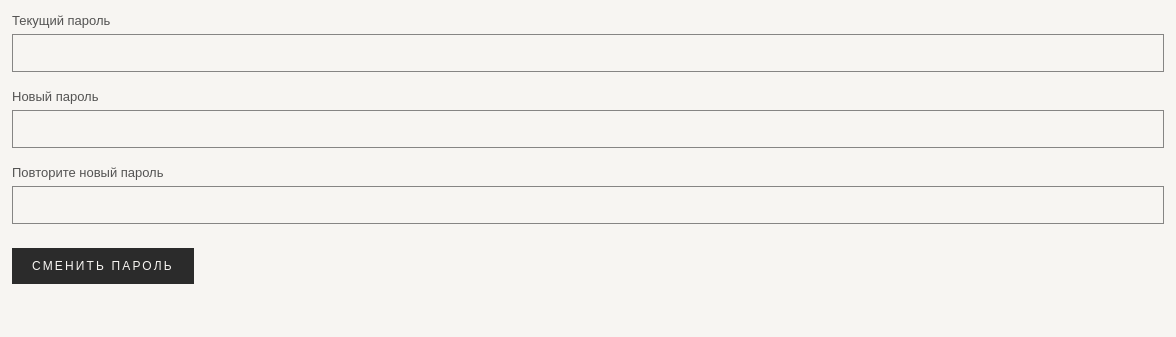
ChangePasswordForm › refuses a new password under 8 characters without asking the server
Type "old-secret" into the password field labelled "Текущий пароль" at (588, 53), box top-left (12, 34), bottom-right (1164, 72)
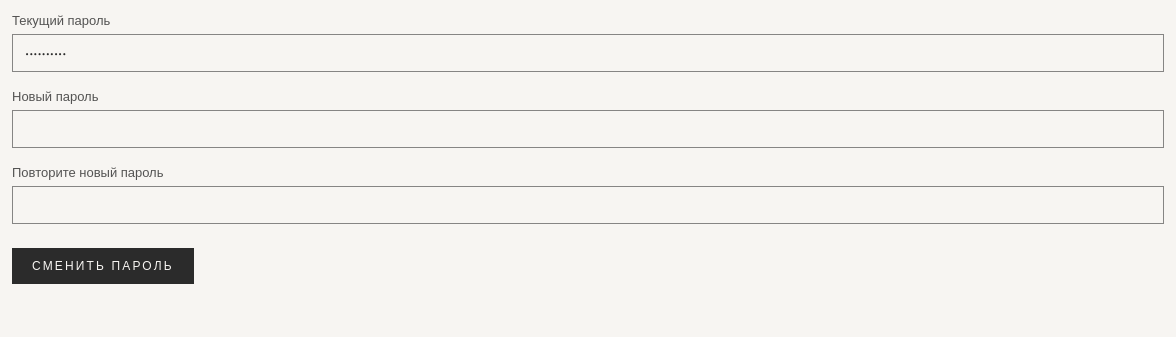
Type "short" into the password field labelled "Новый пароль" at (588, 129), box top-left (12, 110), bottom-right (1164, 148)
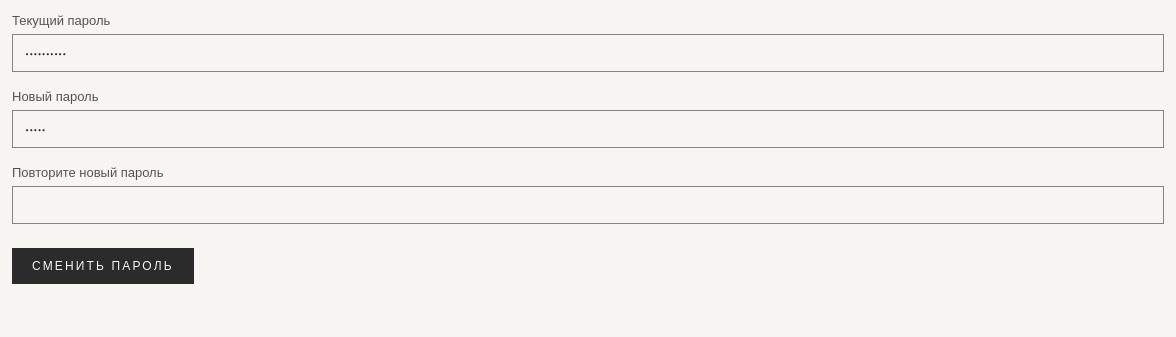
Type "short" into the password field labelled "Повторите новый пароль" at (588, 205), box top-left (12, 186), bottom-right (1164, 224)
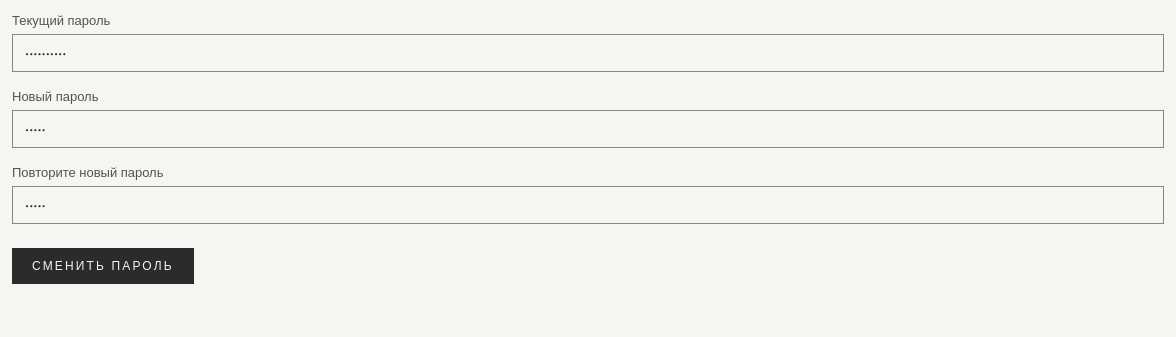
Click the button "Сменить пароль" at (103, 266), box top-left (12, 248), bottom-right (194, 284)
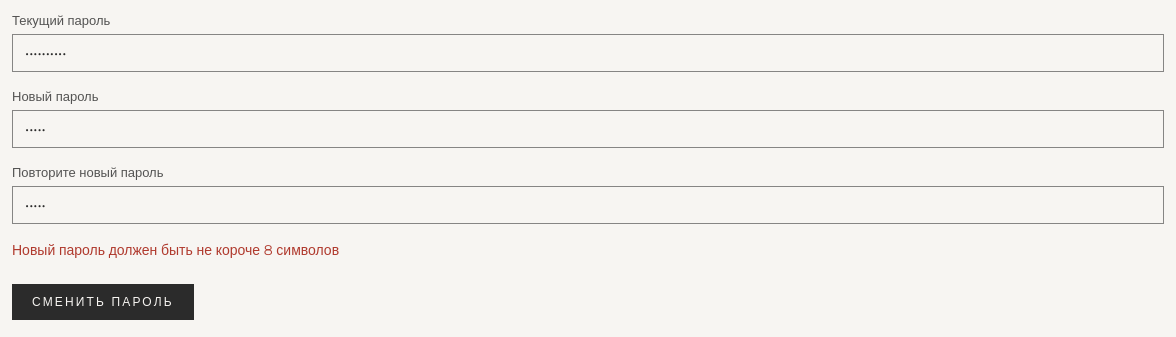
Result: the message reads "Новый пароль должен быть не короче 8 символов" at top-left (12, 241), bottom-right (339, 259)
